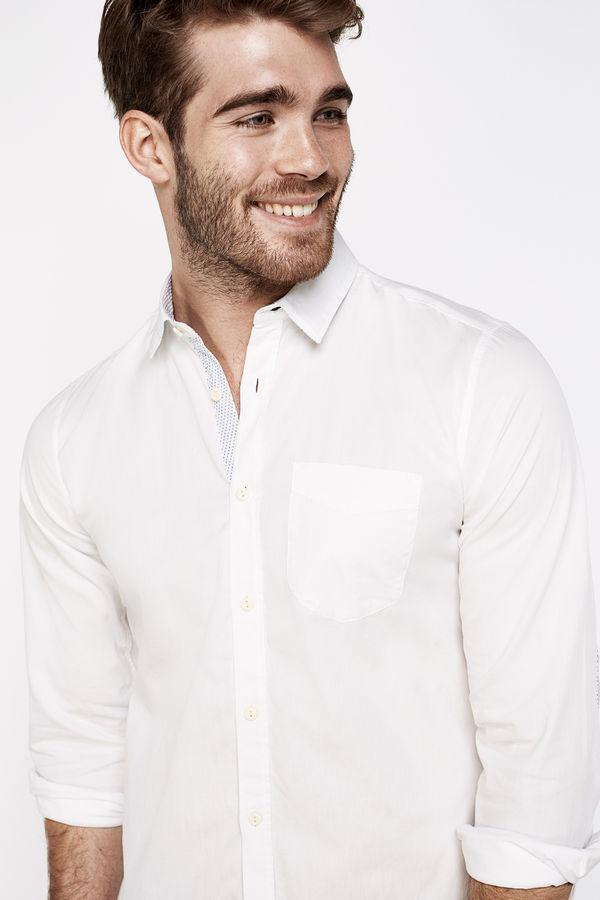teeshirt: (11, 236, 600, 872)
